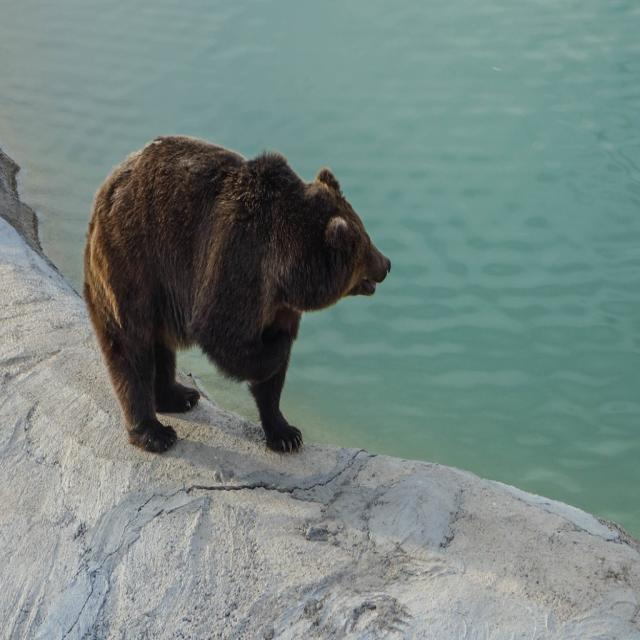Cheetahs: (82, 132, 392, 452)
